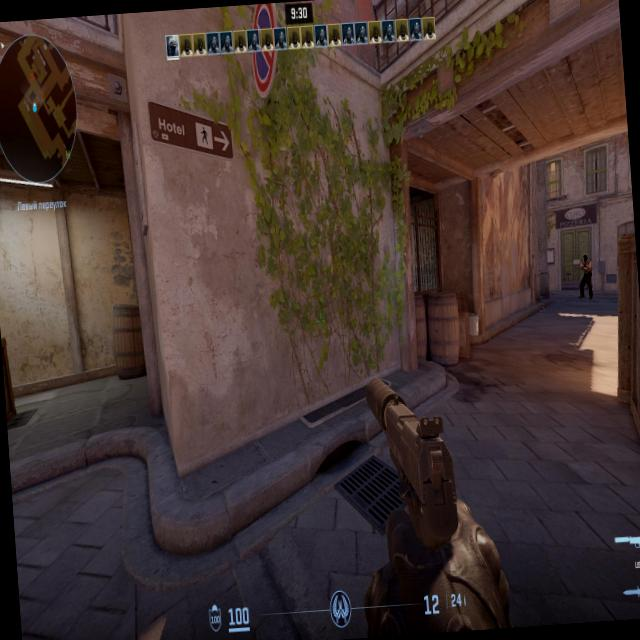T: (580, 255, 592, 298)
T_heat: (582, 256, 588, 264)
